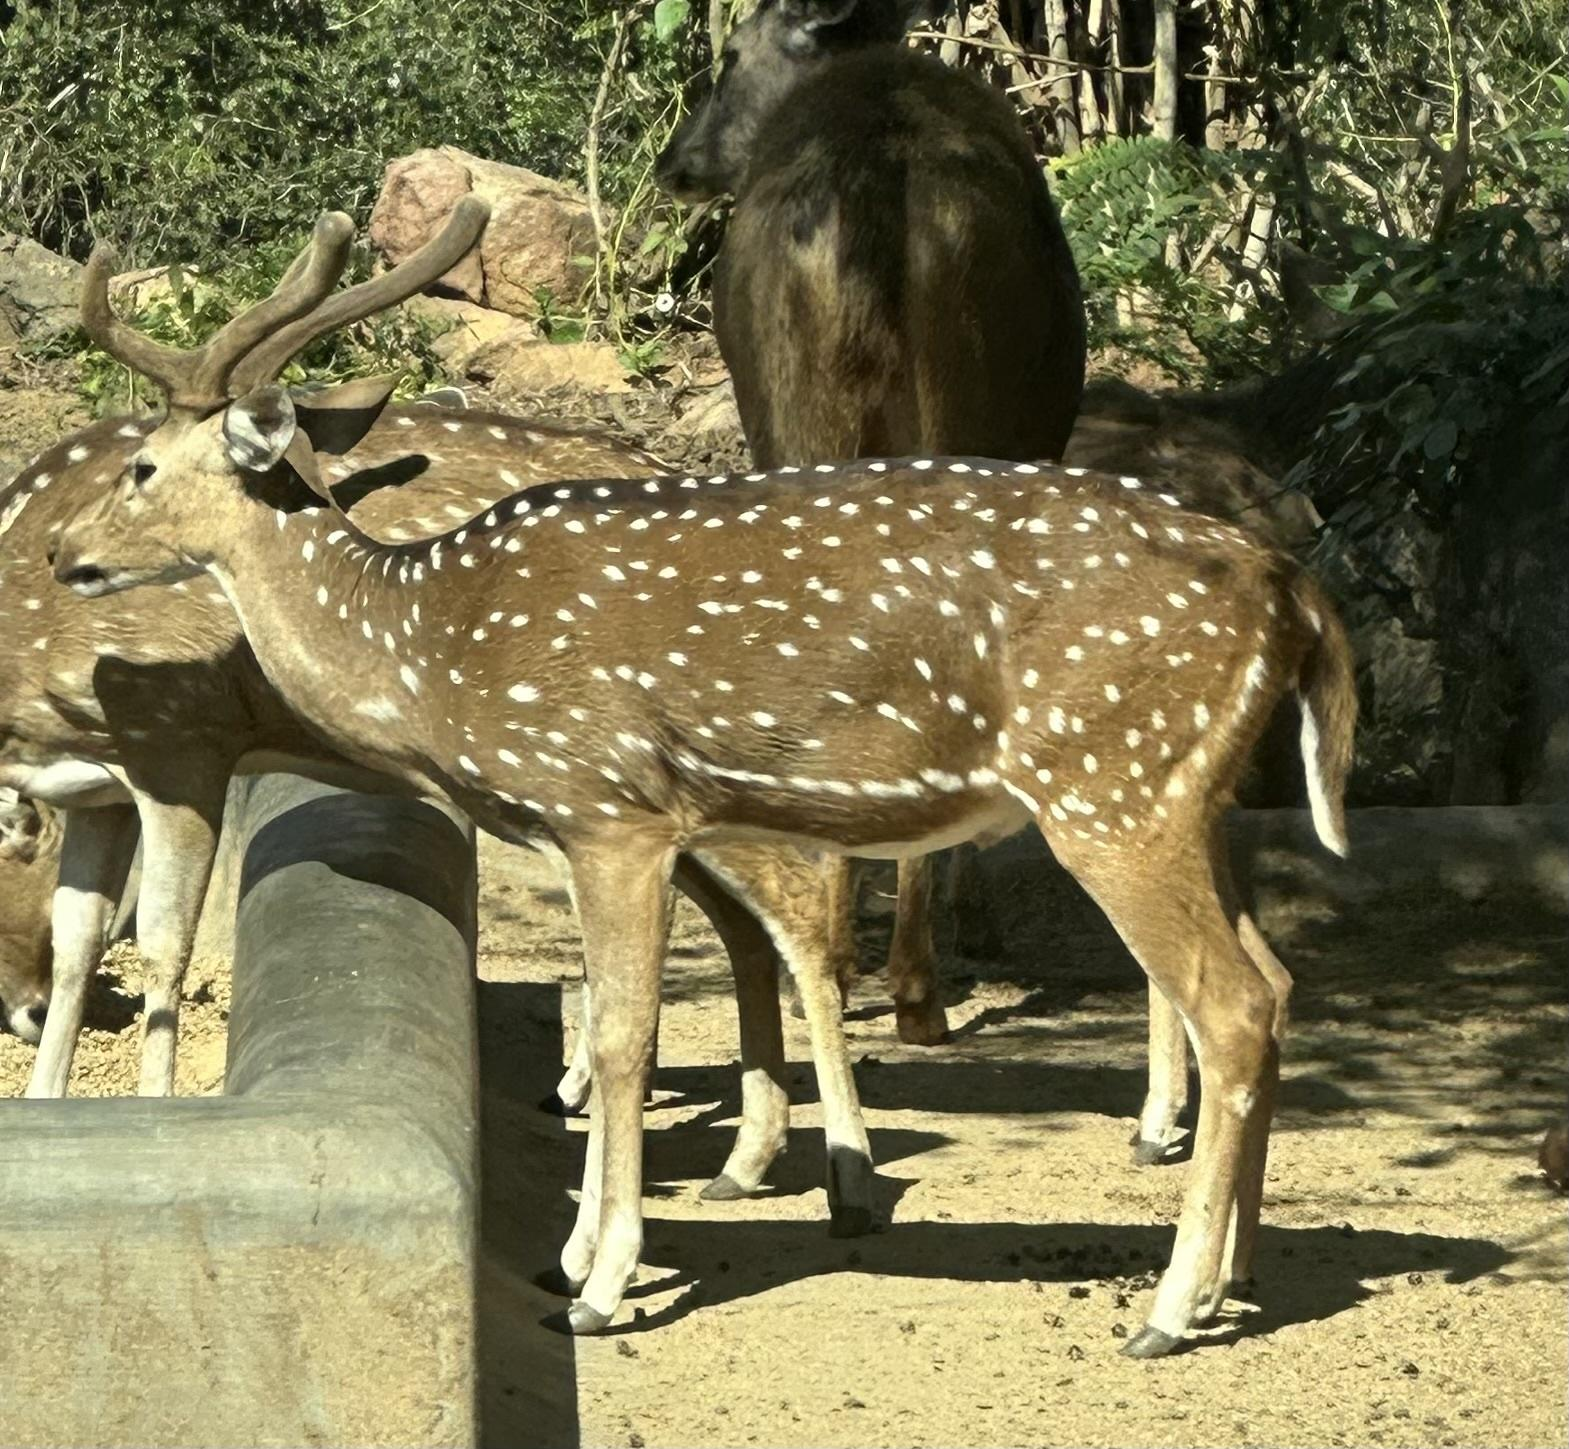Deer: (51, 193, 1356, 1356)
